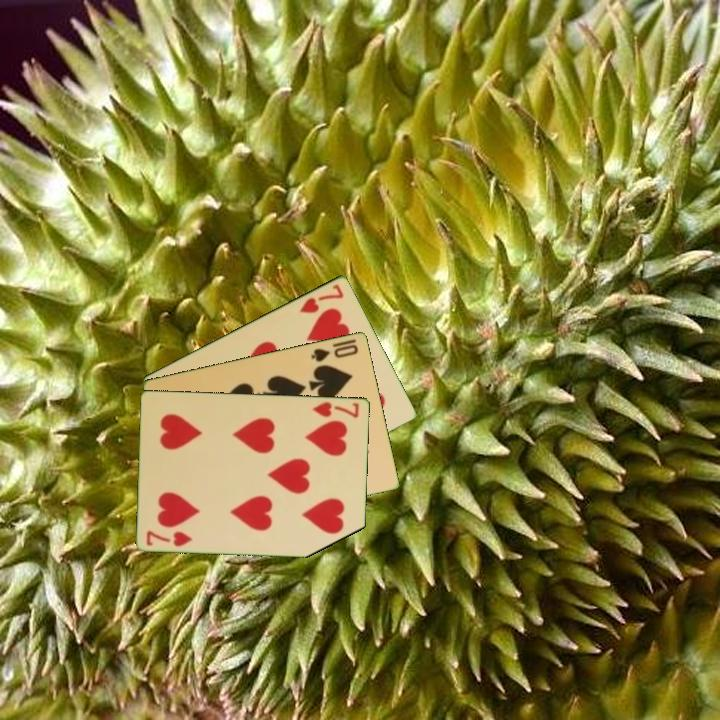10s: (308, 340, 361, 364)
7h: (296, 280, 347, 316), (309, 398, 362, 420), (143, 527, 196, 549)
